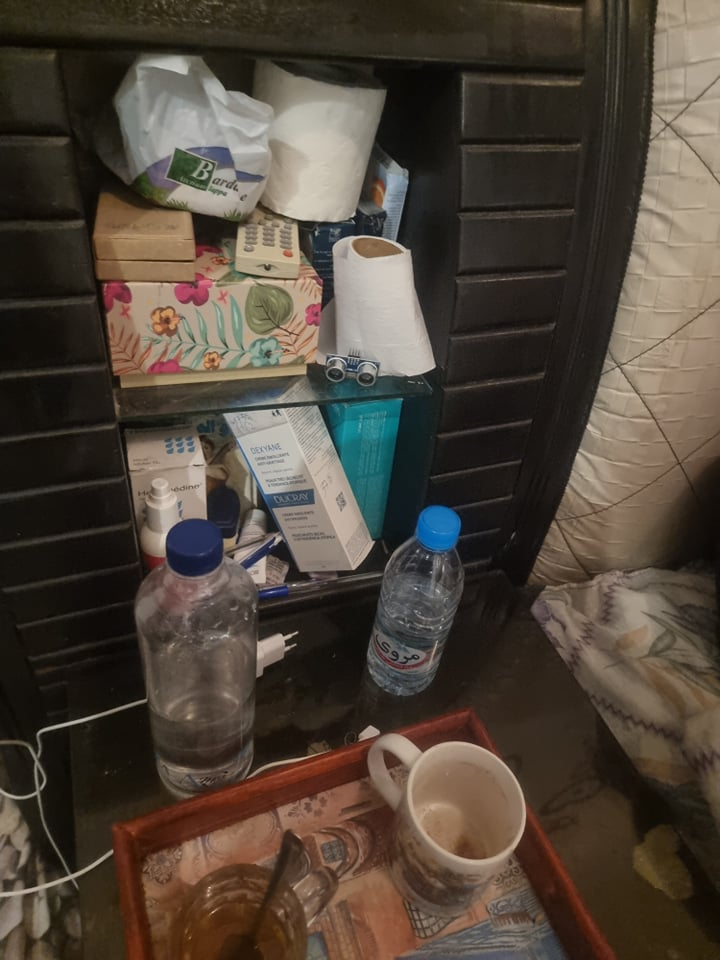SENSOR: (321, 351, 380, 388)
